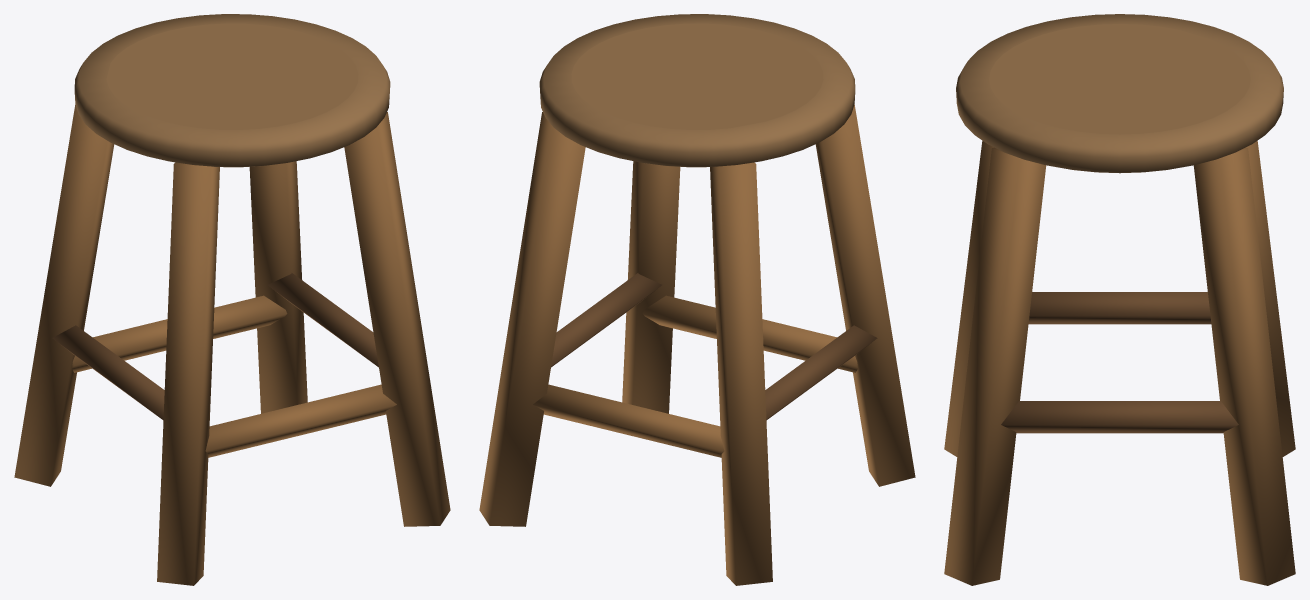
Rendered from stool.glb.
3 views of the same model, side by side, from view 1: azimuth 30°, elevation 25°; view 2: azimuth 150°, elevation 25°; view 3: azimuth 270°, elevation 25° (orthographic). The views are drawn at different scales.
Parts seen in each view (by area): view 1: Tianjin_stool; view 2: Tianjin_stool; view 3: Tianjin_stool.
Part boxes in pixels (box(x1,y1,x2,y2)): Tianjin_stool: box(14, 14, 450, 585); Tianjin_stool: box(479, 14, 915, 585); Tianjin_stool: box(944, 14, 1295, 585).
Bounding box in the file's own units: 0.4136 × 0.5685 × 0.4136.
